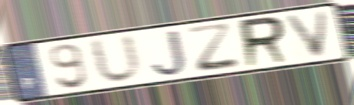9: (48, 42, 90, 91)
J: (149, 28, 190, 79)
R: (237, 14, 292, 70)
U: (86, 32, 146, 86)
V: (281, 8, 331, 60)
Z: (184, 20, 245, 74)
